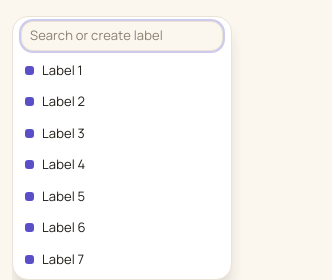
it: LabelPicker › with five labels › words the count differently once Pro labels put it past five
(page scrolled)
Step 1. Type "Marketing" into the field with placeholder "Search or create label" → (122, 36), box [21,21,223,50]
(page scrolled)
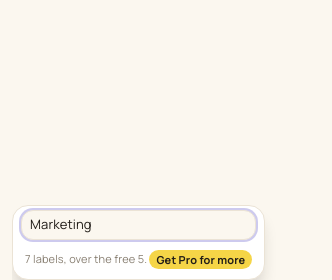
Now the element with test id "label-cap" shows "7 labels, over the free 5.", box [25,250,147,265]
